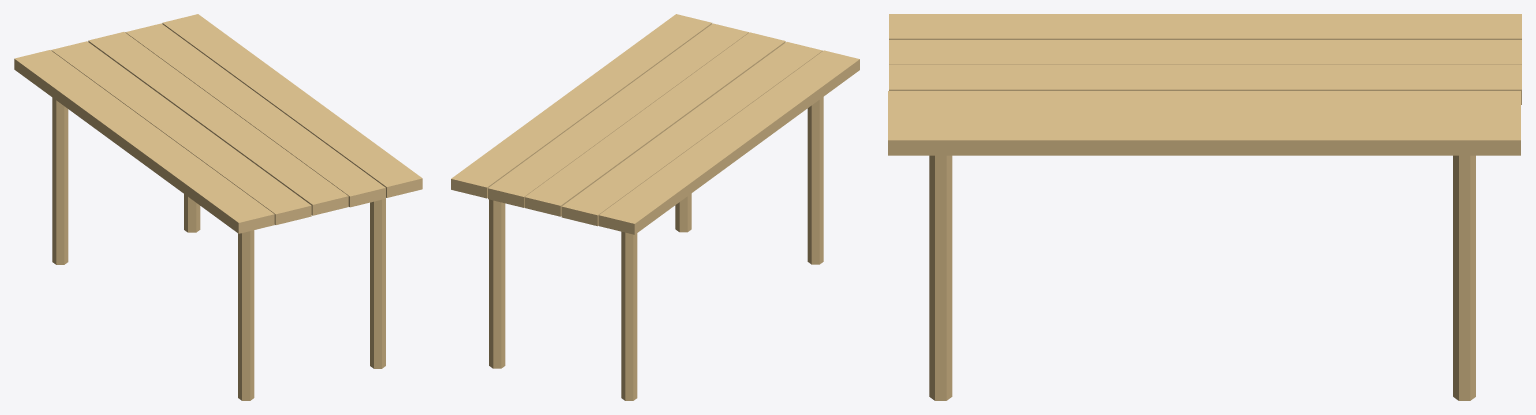
File: table.fbx
The picture shows the model from 3 angles, left to right: view 1: azimuth 30°, elevation 25°; view 2: azimuth 150°, elevation 25°; view 3: azimuth 270°, elevation 25°; orthographic projection. The views are drawn at different scales.
Visible parts, largest first — view 1: table; view 2: table; view 3: table.
Boxes of the visible parts, <box> form: table: <box>14,14,422,400</box>; table: <box>451,14,859,400</box>; table: <box>888,14,1521,400</box>.
Size of the model in its own units: 82.11 by 83.22 by 174.
